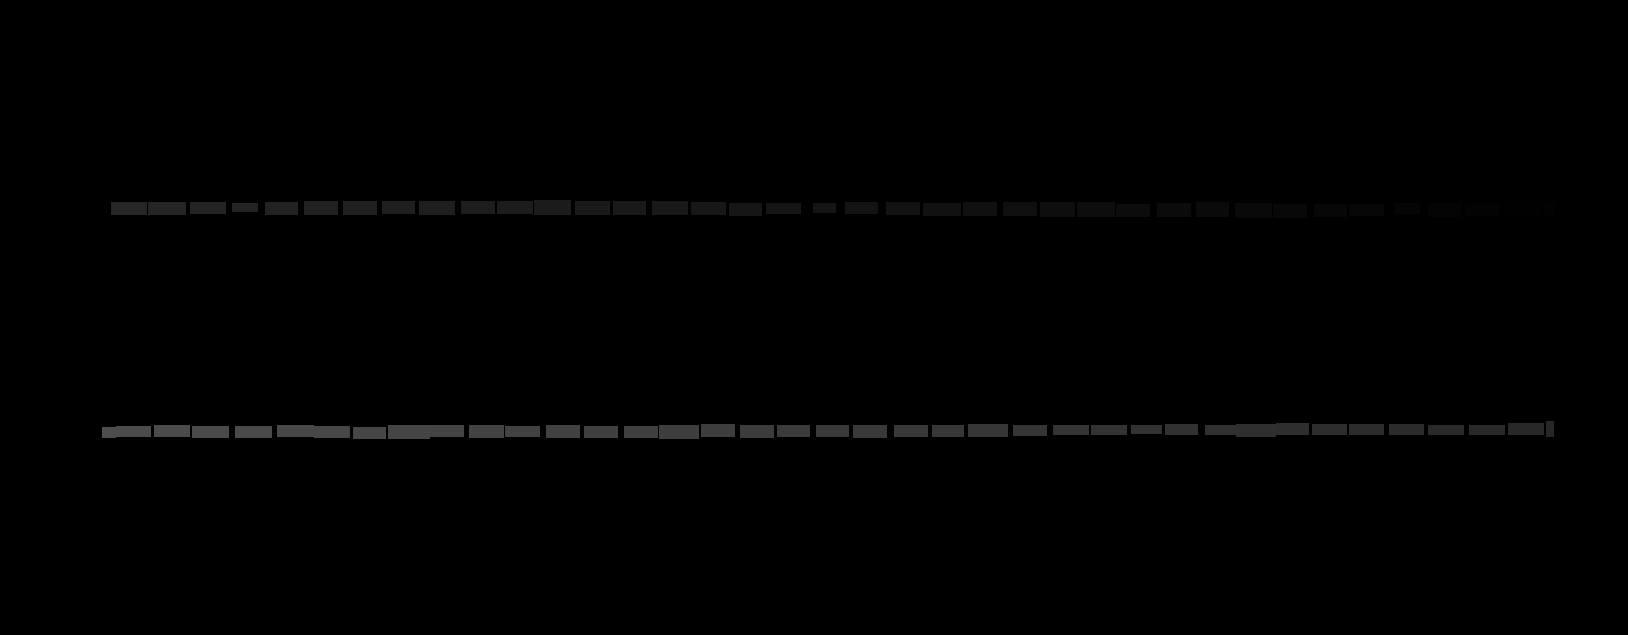light: (388, 425, 430, 439), (1077, 202, 1115, 217), (1234, 203, 1272, 218), (534, 200, 571, 215), (659, 425, 699, 439), (1236, 424, 1276, 437), (968, 424, 1008, 437), (1040, 202, 1075, 217), (652, 201, 688, 215), (1196, 202, 1229, 217), (923, 203, 961, 216), (575, 201, 610, 215), (419, 201, 455, 215), (148, 202, 186, 215), (1505, 202, 1540, 216), (1273, 204, 1307, 218), (1157, 203, 1191, 217), (1003, 202, 1037, 216), (343, 201, 377, 215), (304, 201, 338, 215), (111, 202, 147, 215), (1428, 203, 1461, 217), (964, 202, 997, 216), (613, 201, 646, 215), (497, 201, 533, 214), (1116, 204, 1150, 217), (886, 202, 920, 215), (691, 202, 726, 215), (461, 201, 495, 214), (701, 424, 735, 437), (546, 425, 580, 438), (469, 425, 504, 438), (235, 426, 272, 438), (192, 426, 229, 438), (190, 202, 226, 214), (1508, 423, 1544, 435), (314, 426, 350, 438), (277, 425, 314, 437), (154, 425, 190, 437), (729, 203, 762, 216), (382, 201, 415, 214), (265, 202, 298, 215), (853, 425, 887, 438), (740, 425, 774, 438), (1349, 204, 1384, 216), (1314, 204, 1347, 217), (1465, 204, 1499, 216), (894, 425, 928, 437), (624, 426, 658, 438), (584, 426, 618, 438), (430, 425, 464, 437), (845, 202, 878, 214), (1276, 423, 1309, 435), (816, 425, 849, 437), (777, 425, 810, 437), (353, 427, 386, 439), (1389, 424, 1424, 435), (1349, 424, 1384, 435), (505, 426, 540, 437), (766, 203, 801, 214), (1312, 424, 1347, 435), (932, 425, 964, 437), (116, 426, 151, 437), (1165, 424, 1198, 435), (1013, 425, 1047, 436), (1469, 425, 1505, 435), (1428, 425, 1464, 435), (1053, 425, 1089, 435), (1091, 425, 1127, 435), (1205, 425, 1239, 435), (1394, 203, 1420, 214), (1131, 425, 1162, 434), (232, 203, 257, 212), (813, 203, 836, 213), (1544, 202, 1554, 217), (102, 427, 116, 438), (1546, 421, 1554, 437)
